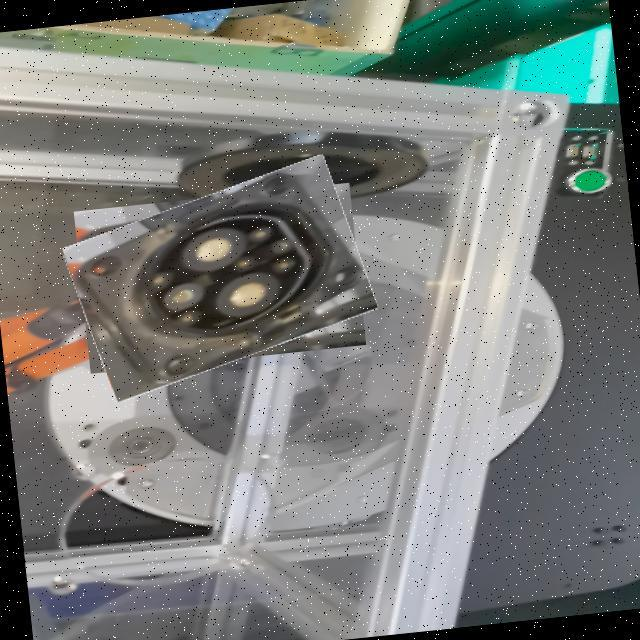GB-T: (83, 203, 368, 377)
